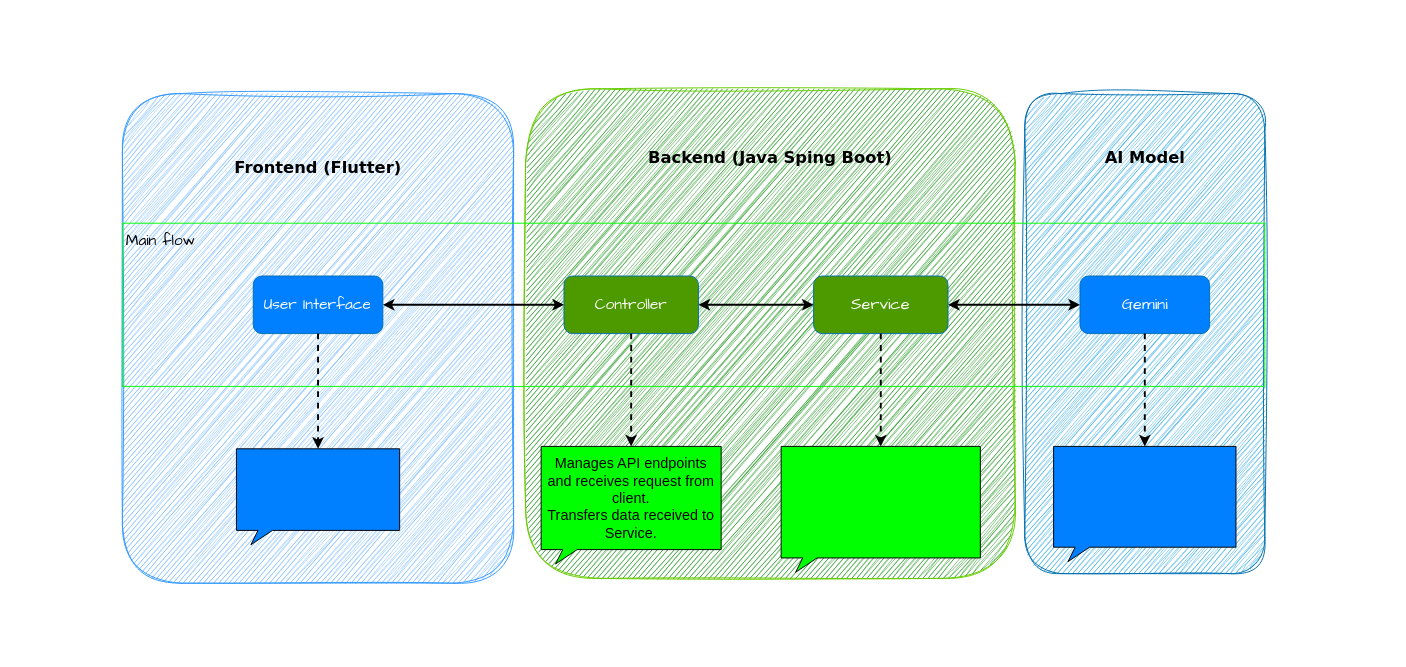
Some shapes in this 1406 by 667 pixel diagram are drawn without their labels. Here are the shapes that lost their labels. From the top down, the box of each, then its label:
(235, 448, 400, 545): Allows user to upload an image..
(780, 445, 980, 572): Contains business logic for various operations. Calls AI Model for Prediction.
(1053, 445, 1236, 562): Analyzes the image and responds accordingly.
